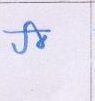i_matra: (26, 21, 47, 48)
